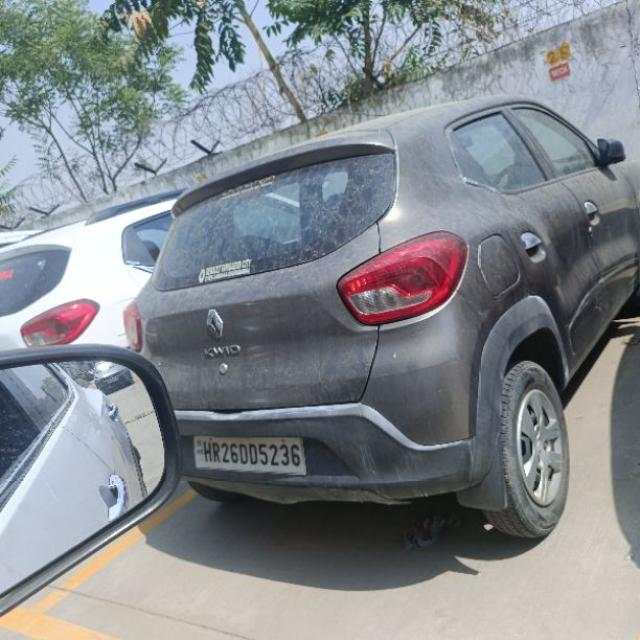license_plate: (188, 433, 308, 476)
